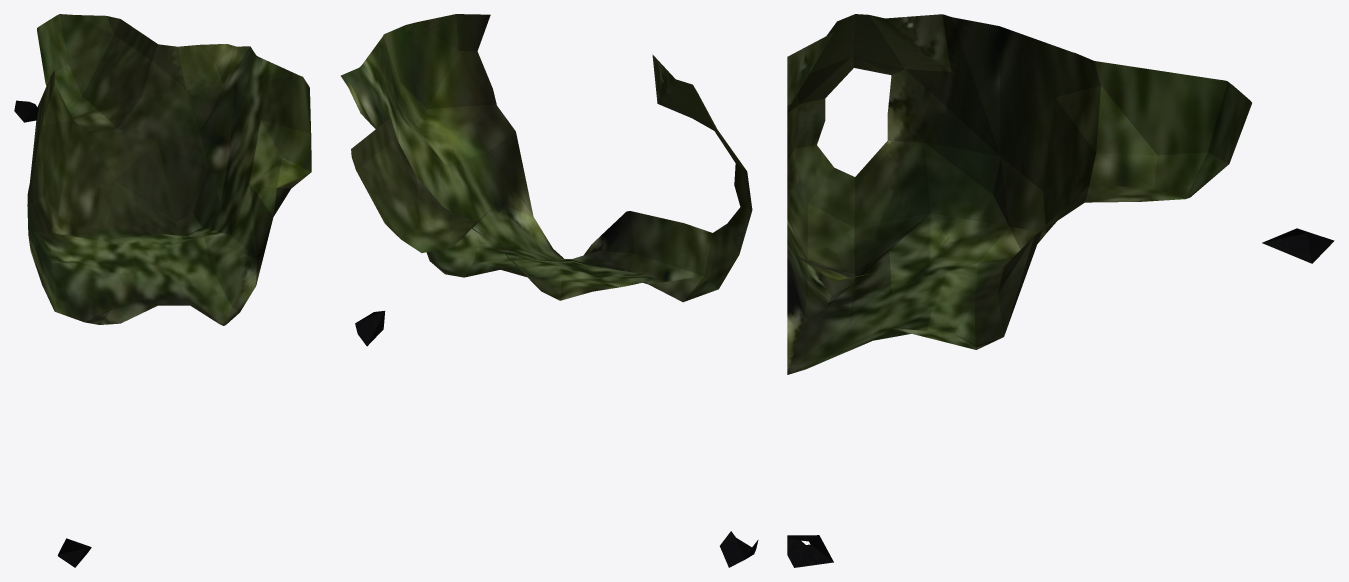
The picture shows the model from 3 angles, left to right: view 1: azimuth 30°, elevation 25°; view 2: azimuth 150°, elevation 25°; view 3: azimuth 270°, elevation 25°; orthographic projection. The views are drawn at different scales.
Size of the model in its own units: 1.46 by 2.02 by 1.77.
Materials: 1 (1 with a texture image).
